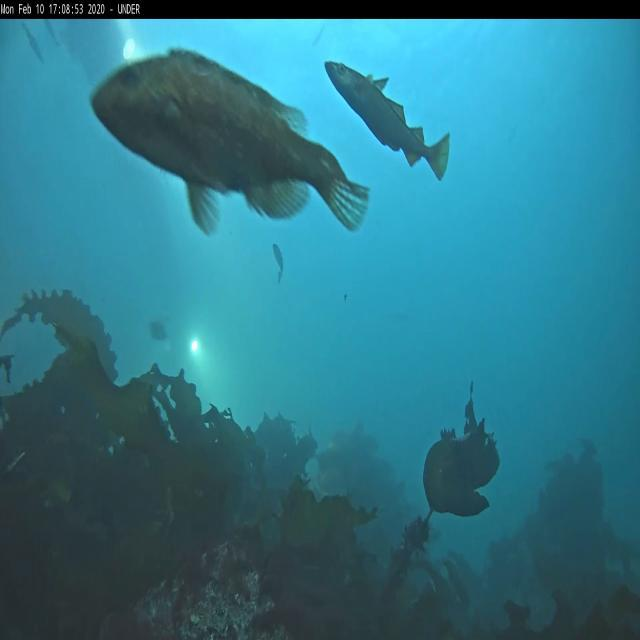fish: (90, 46, 368, 238), (324, 59, 450, 182), (22, 26, 44, 62), (272, 244, 285, 284), (41, 20, 60, 46)
